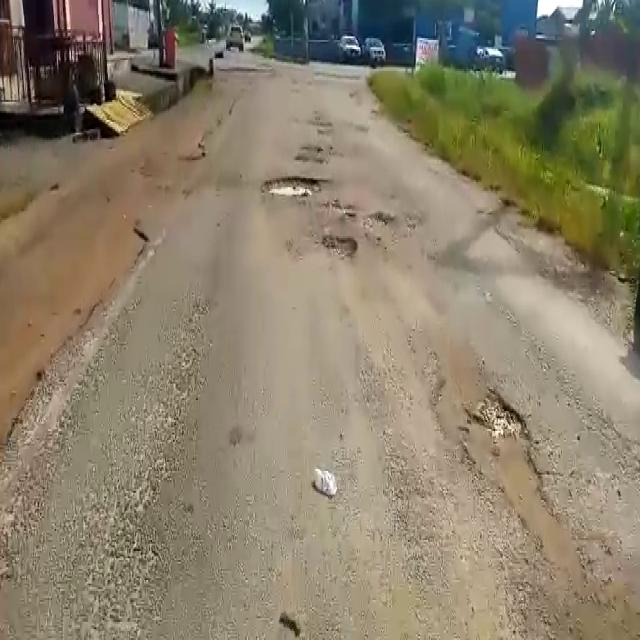Pothole: (460, 386, 577, 562), (262, 170, 322, 200), (316, 231, 359, 256)
